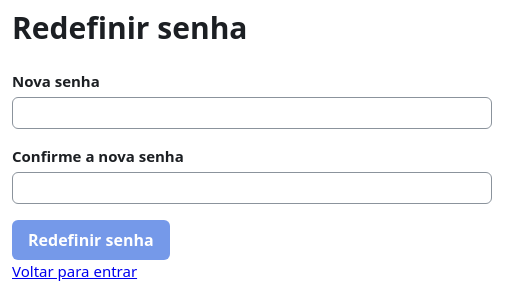
Test: resultado › desabilita o envio durante a operacao, impedindo duplicidade
The image size is (513, 298).
Type "senha-nova-123" into the password field labelled "Nova senha". click: (252, 113)
box: [12,97,492,129]
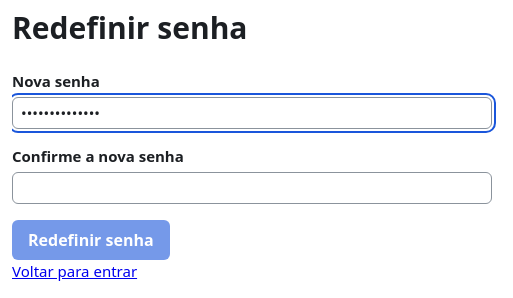
Type "senha-nova-123" into the password field labelled "Confirme a nova senha". click: (252, 188)
box: [12,172,492,204]
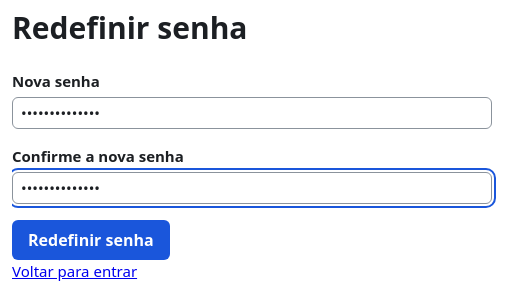
Click the button "Redefinir senha". click: (91, 240)
box: [12,220,170,260]
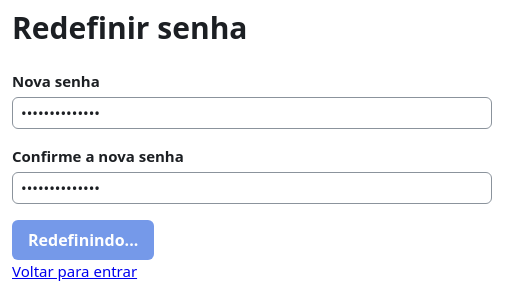
Expected: the button "Redefinindo..." is disabled, [12,220,154,260]
